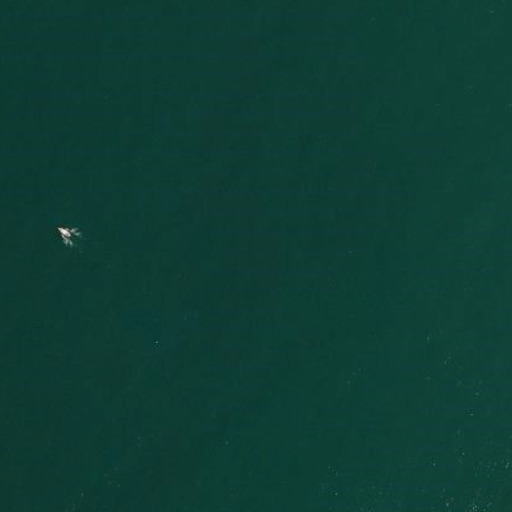ship: (53, 223, 75, 242)
